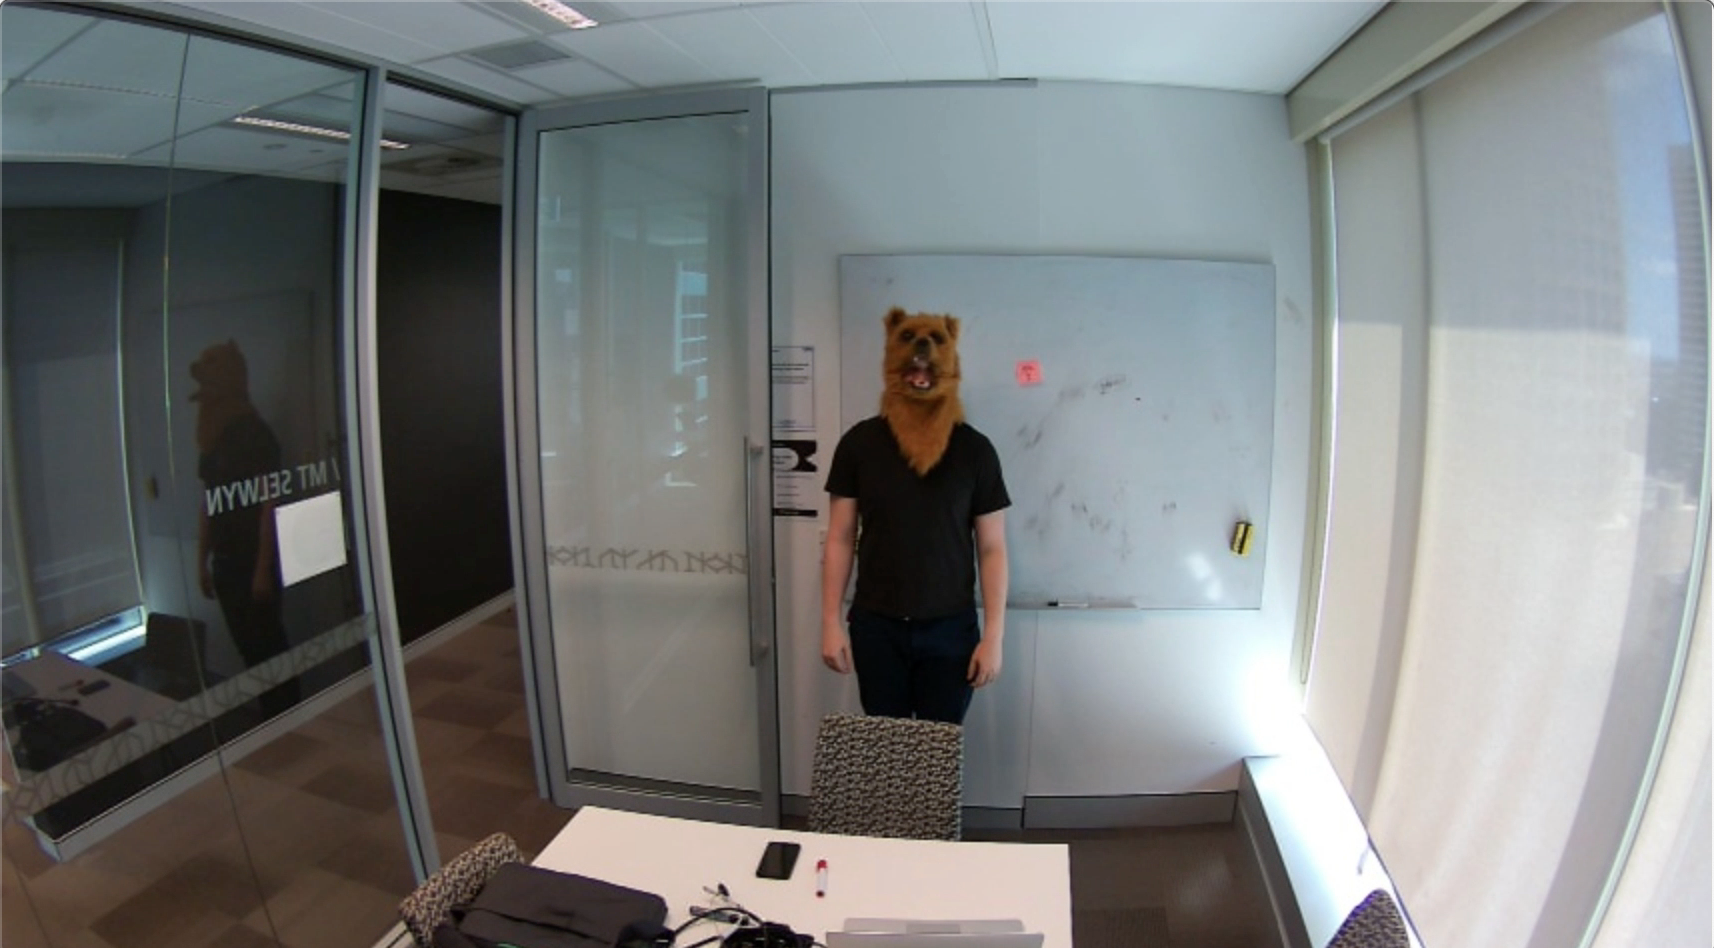Bear: (877, 302, 968, 417)
